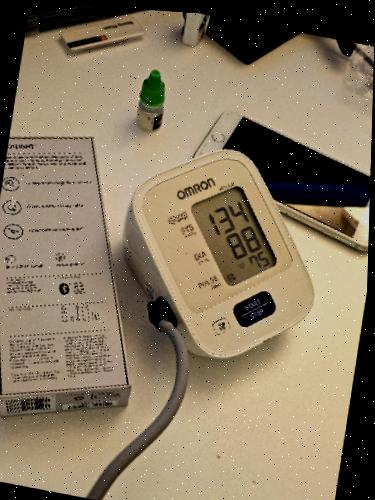bpm: (185, 179, 280, 290)
